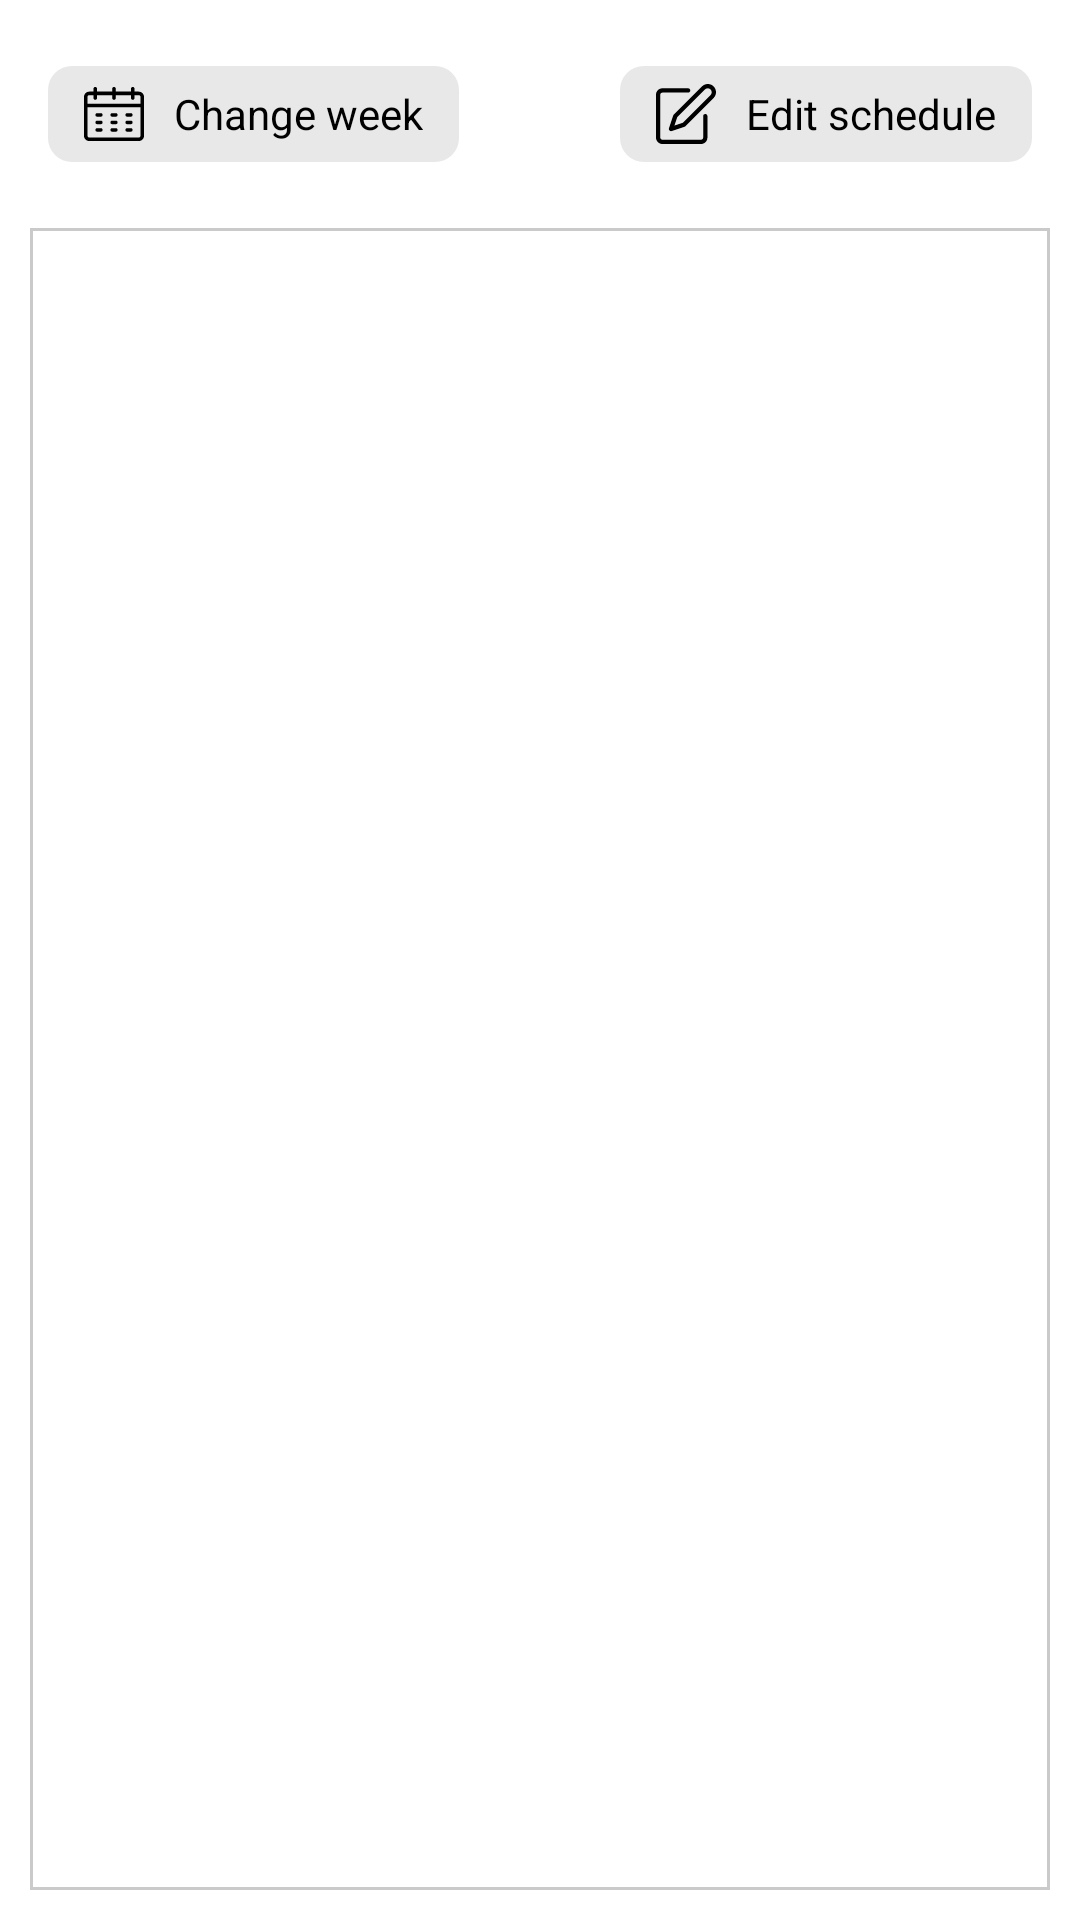

Screen size 1080px×1920px. Icon name, then its center in pixels as point (x, y):
calendar: point (114, 114)
